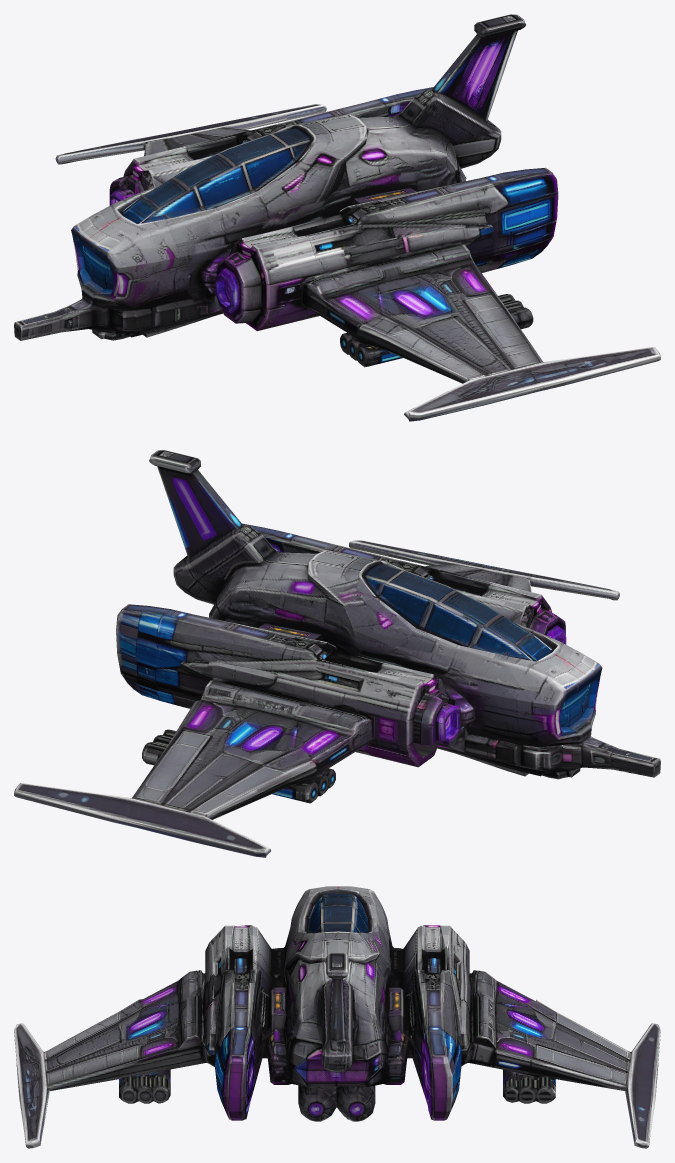
Rendered from dopeship.glb.
The picture shows the model from 3 angles, top to bottom: view 1: azimuth 30°, elevation 25°; view 2: azimuth 150°, elevation 25°; view 3: azimuth 270°, elevation 25°; orthographic projection. The views are drawn at different scales.
Visible parts, largest first — view 1: Mesh_0; view 2: Mesh_0; view 3: Mesh_0.
Boxes of the visible parts, <box> form: Mesh_0: <box>14,14,660,421</box>; Mesh_0: <box>14,450,660,857</box>; Mesh_0: <box>14,886,660,1148</box>.
Size of the model in its own units: 0.2887 by 0.12 by 0.3542.
1 material, 1 textured.
